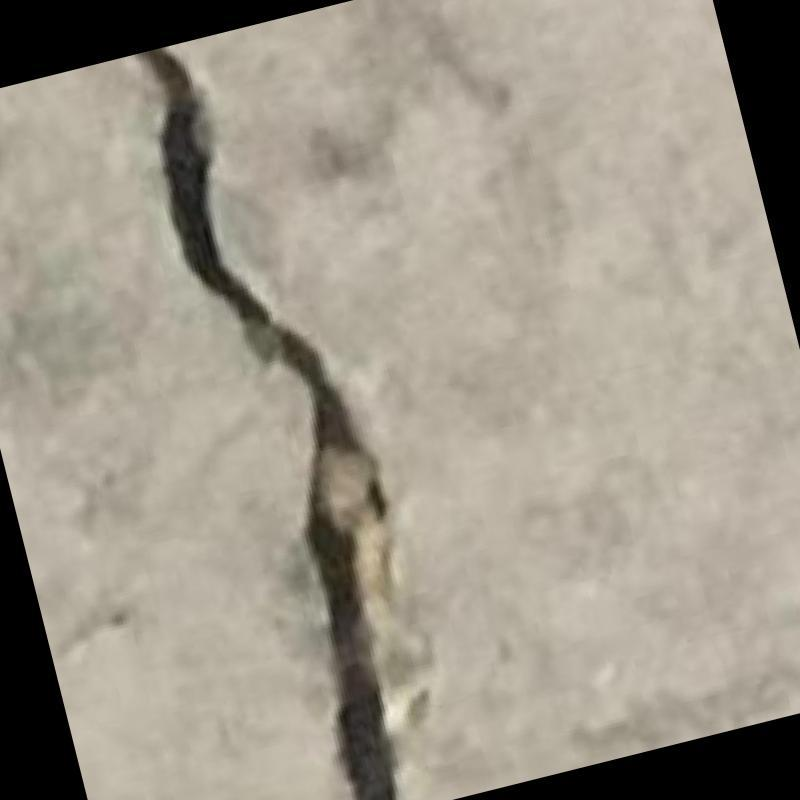crack: (135, 47, 429, 800)
